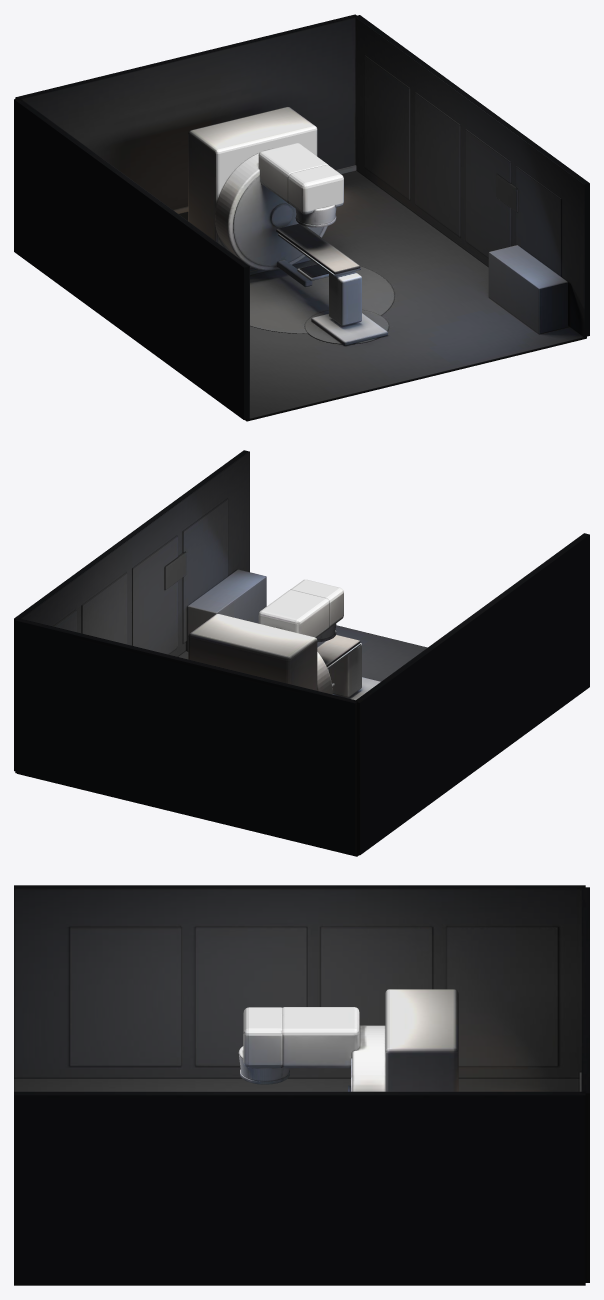
Rendered from room.glb.
3 views of the same model, one above another, from view 1: azimuth 30°, elevation 25°; view 2: azimuth 150°, elevation 25°; view 3: azimuth 270°, elevation 25° (orthographic). The views are drawn at different scales.
Parts seen in each view (by area): view 1: room; view 2: room; view 3: room.
Boxes of the visible parts, left/top/right/bottom form: room: left=14, top=14, right=589, bottom=421; room: left=14, top=450, right=589, bottom=856; room: left=14, top=885, right=589, bottom=1285.
Bounding box in the file's own units: 7.12 × 3.04 × 8.26.
Materials: 1 (1 with a texture image).
